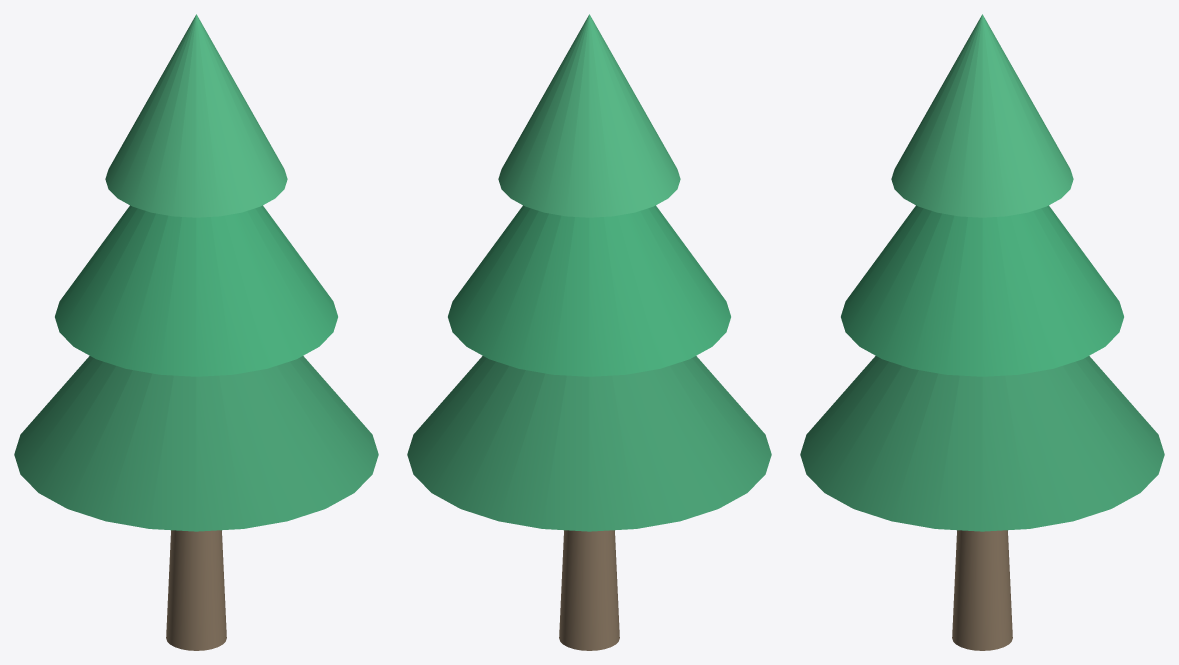
Rendered from tree.glb.
The picture shows the model from 3 angles, left to right: view 1: azimuth 30°, elevation 25°; view 2: azimuth 150°, elevation 25°; view 3: azimuth 270°, elevation 25°; orthographic projection.
Size of the model in its own units: 3.6 by 6.8 by 3.6.
